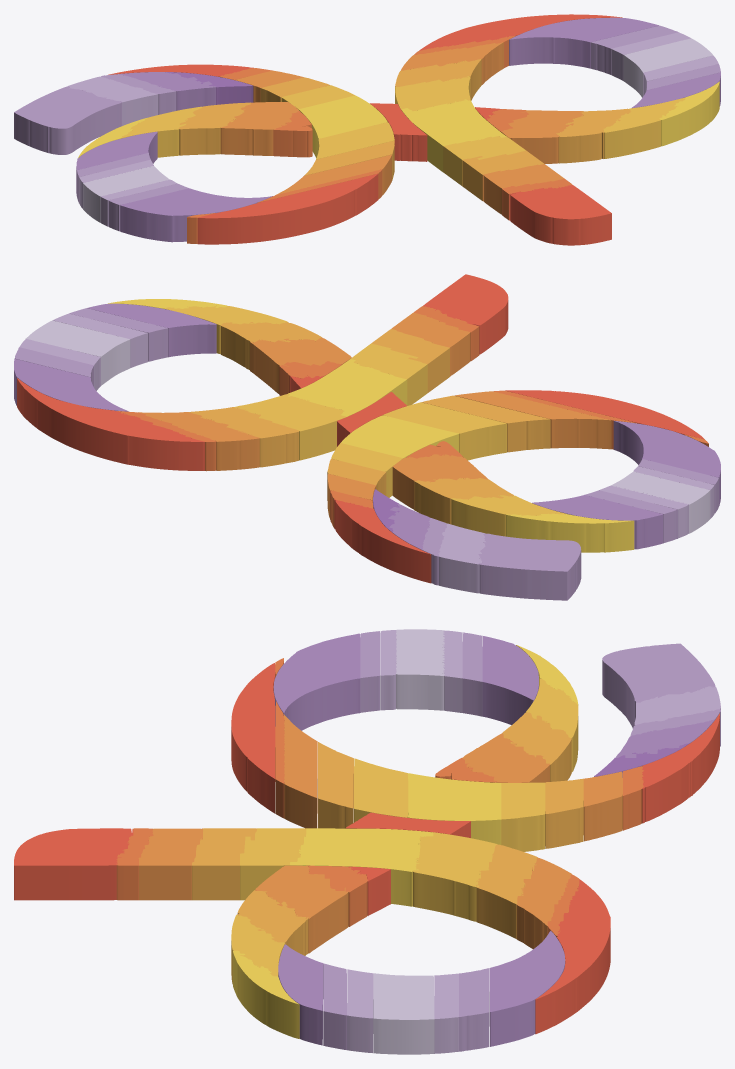
Rendered from asianpaints.glb.
3 views of the same model, one above another, from view 1: azimuth 30°, elevation 25°; view 2: azimuth 150°, elevation 25°; view 3: azimuth 270°, elevation 25° (orthographic). The views are drawn at different scales.
Bounding box in the file's own units: 3.93 × 0.163 × 3.01.
